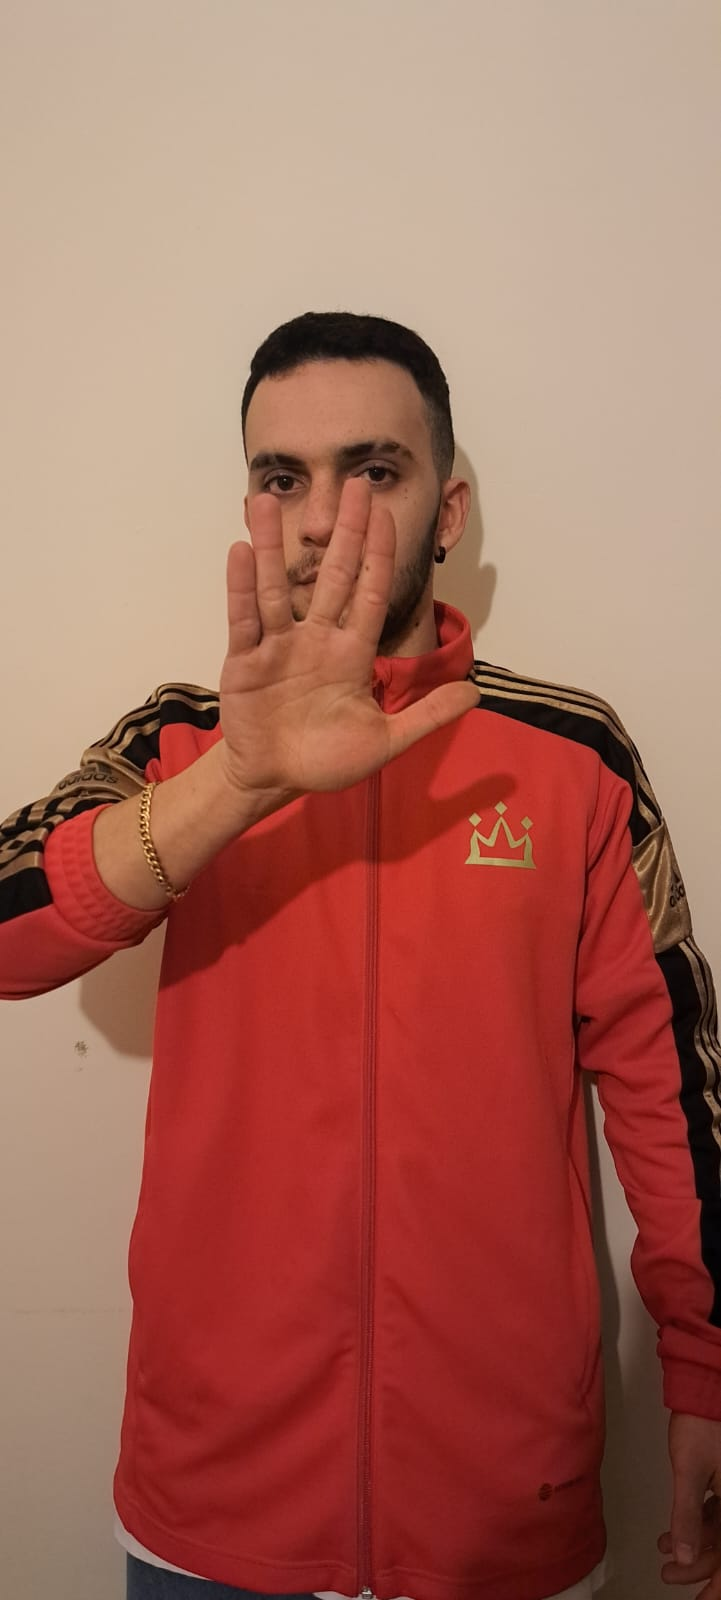alien: (213, 470, 484, 795)
